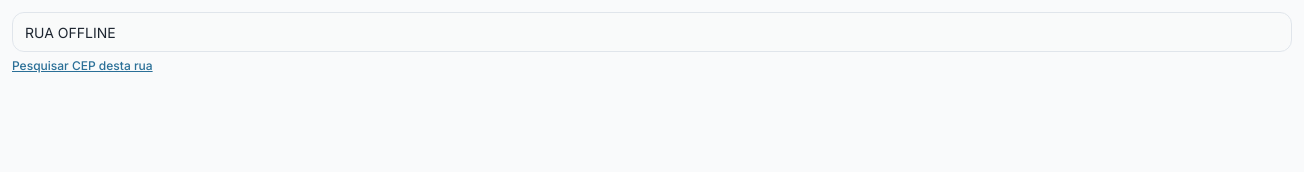
Test: busca por rua sem bloquear o formulário › falha de conexão não desabilita o campo e permite tentar novamente
The image size is (1304, 172).
Later steps or results of the test are not shown.
Click the button "Pesquisar CEP desta rua" at [82, 66], box [12,58,153,74]
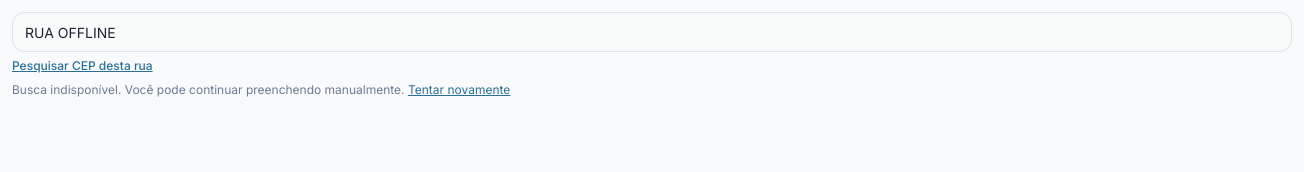
Expected: the field with placeholder "Rua teste" is enabled, [12,12,1292,52]
Expected: the text "continuar preenchendo manualmente" is shown, [12,82,404,97]
